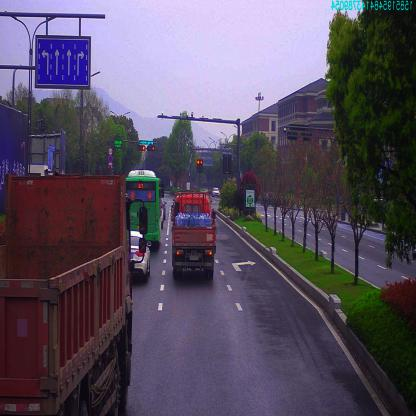traffic-light: (138, 139, 154, 144), (148, 144, 156, 153), (140, 146, 148, 150)
